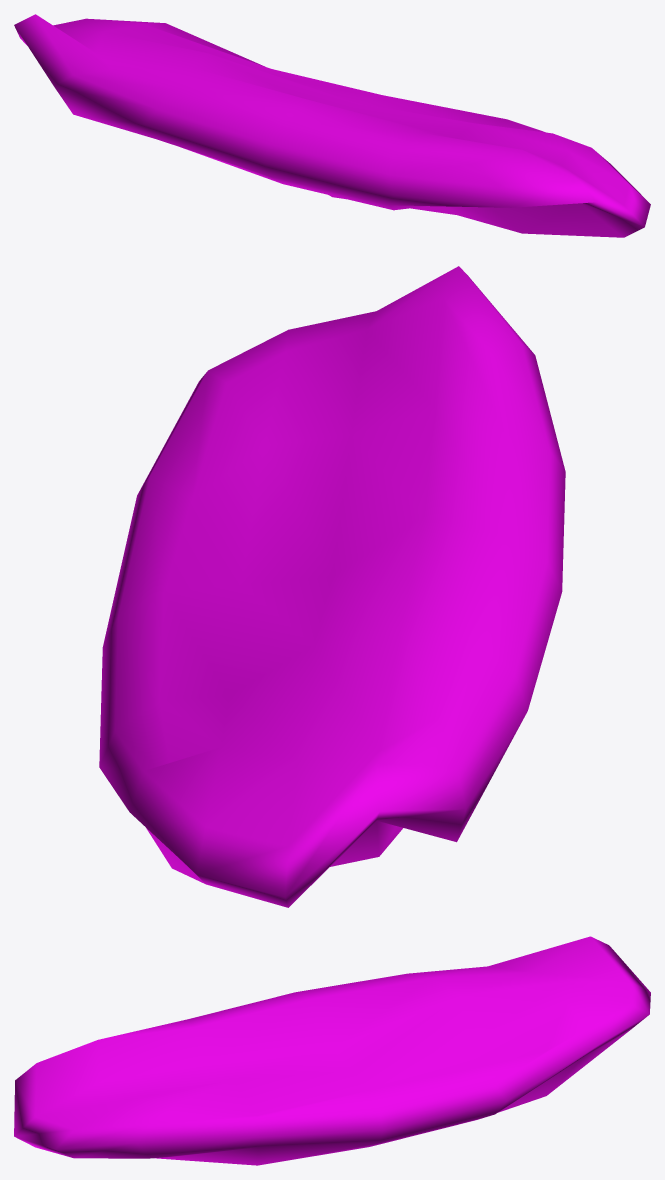
File: Bench.fbx
3 renders of one model, top to bottom at view 1: azimuth 30°, elevation 25°; view 2: azimuth 150°, elevation 25°; view 3: azimuth 270°, elevation 25°, orthographic. The views are drawn at different scales.
Parts seen in each view (by area): view 1: Bench; view 2: Bench; view 3: Bench.
Boxes of the visible parts, x1,y1,x2,y2 form: Bench: (14, 14, 650, 237); Bench: (99, 266, 565, 907); Bench: (14, 936, 650, 1165).
Size of the model in its own units: 3.81 by 1.28 by 6.37.
